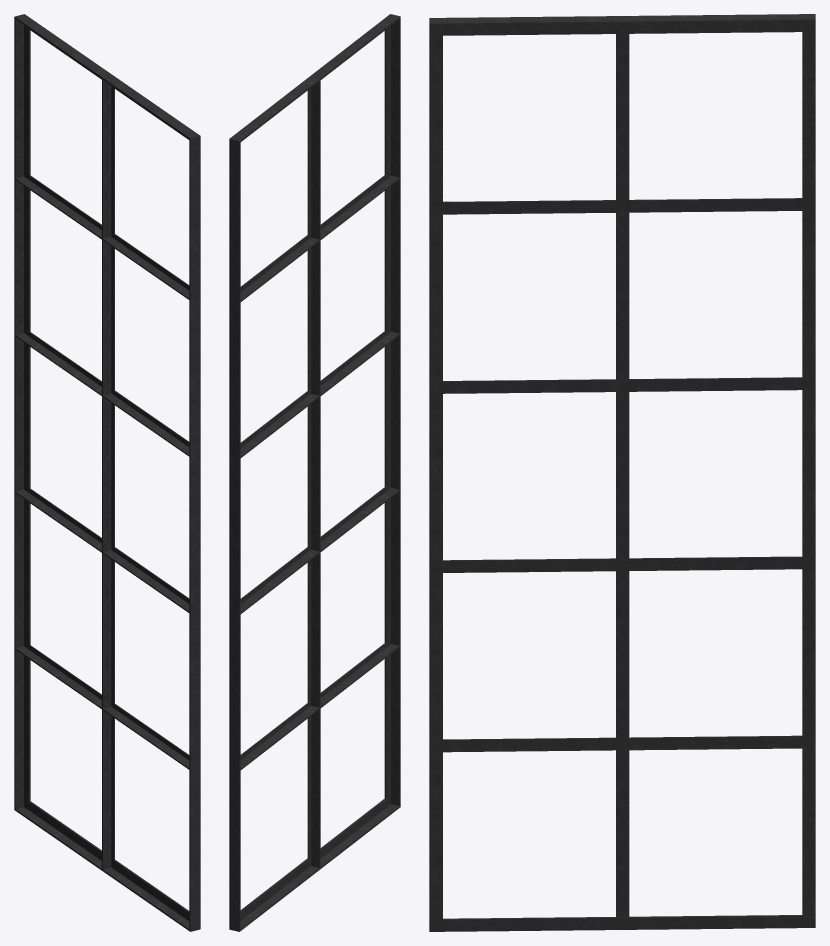
Rendered from puerta_derecha.obj.
3 views of the same model, side by side, from view 1: azimuth 30°, elevation 25°; view 2: azimuth 150°, elevation 25°; view 3: azimuth 270°, elevation 25° (orthographic). The views are drawn at different scales.
Visible parts, largest first — view 1: puerta_derecha001, puerta_derecha; view 2: puerta_derecha001, puerta_derecha; view 3: puerta_derecha, puerta_derecha001.
Part boxes in pixels (x1,y1,x2,y2): puerta_derecha001: (15,19,189,928); puerta_derecha: (14,14,200,931); puerta_derecha001: (240,19,399,928); puerta_derecha: (229,14,400,931); puerta_derecha: (429,14,815,931); puerta_derecha001: (443,34,802,919).
Bounding box in the file's own units: 3.69 × 160 × 61.92.
